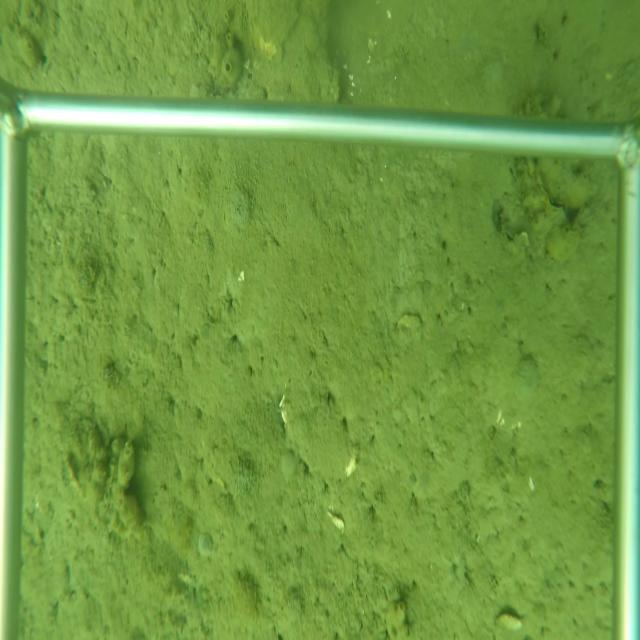Oyster-Closed: (532, 177, 571, 224)
